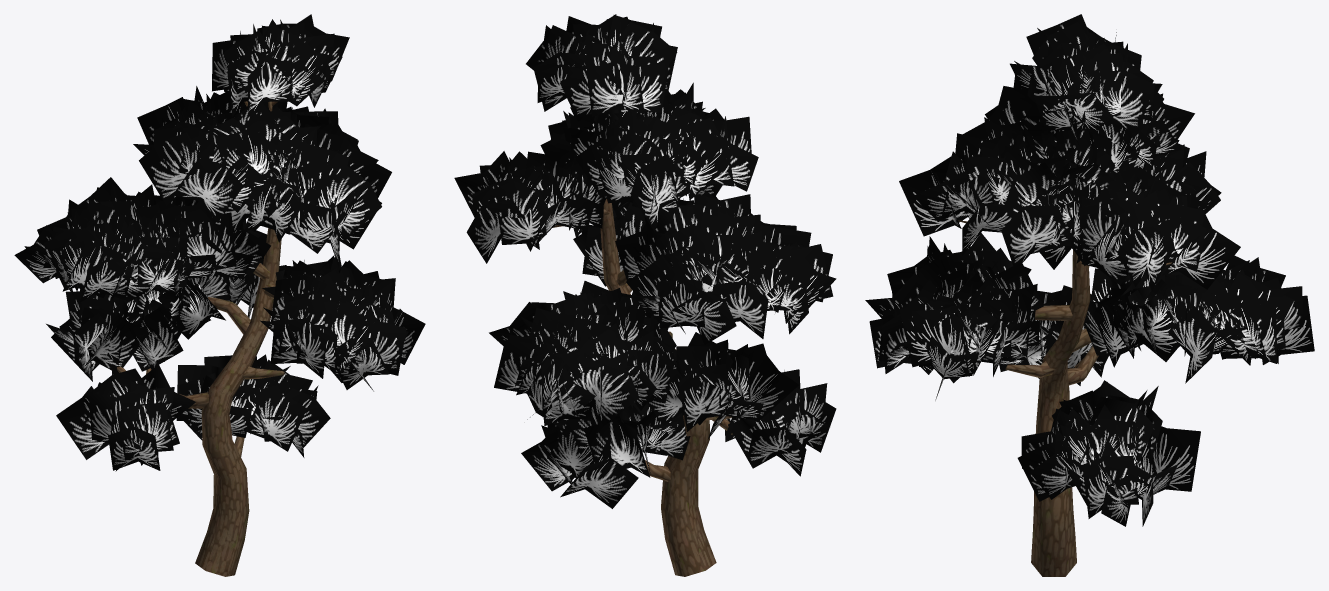
The model's file is P_ChinaPineB03.obj.
The picture shows the model from 3 angles, left to right: view 1: azimuth 30°, elevation 25°; view 2: azimuth 150°, elevation 25°; view 3: azimuth 270°, elevation 25°; orthographic projection. The views are drawn at different scales.
Bounding box in the file's own units: 12.11 × 18.46 × 12.88.
